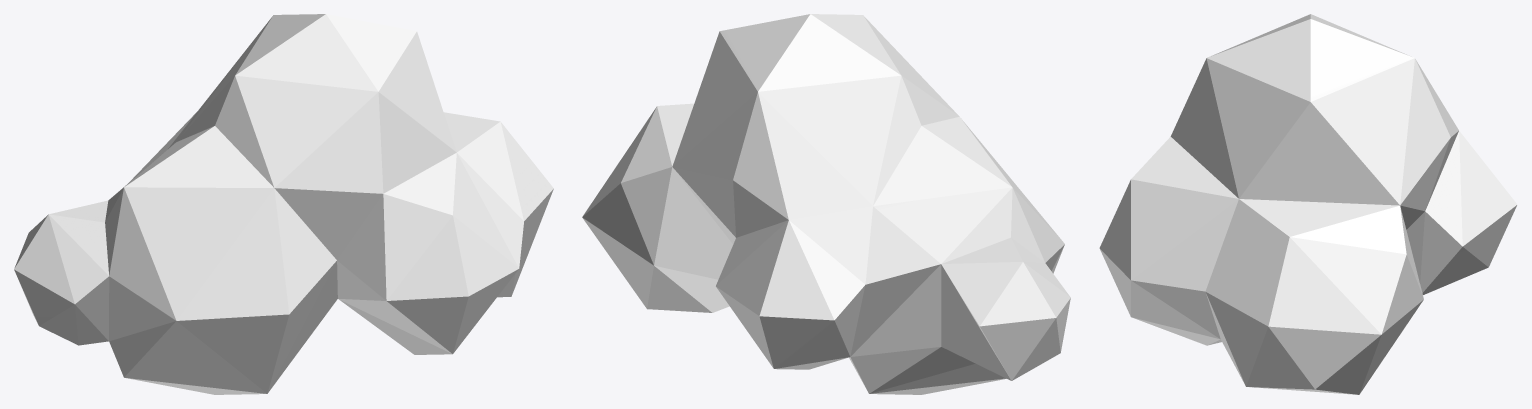
Rendered from GL-Cloud-01-LOD3.fbx.
3 views of the same model, side by side, from view 1: azimuth 30°, elevation 25°; view 2: azimuth 150°, elevation 25°; view 3: azimuth 270°, elevation 25° (orthographic).
Parts seen in each view (by area): view 1: GL_Cloud_01; view 2: GL_Cloud_01; view 3: GL_Cloud_01.
Boxes of the visible parts, bbox=[...] form: GL_Cloud_01: bbox=[14, 14, 553, 394]; GL_Cloud_01: bbox=[582, 14, 1070, 394]; GL_Cloud_01: bbox=[1099, 14, 1517, 394].
Size of the model in its own units: 2.65 by 1.85 by 2.
